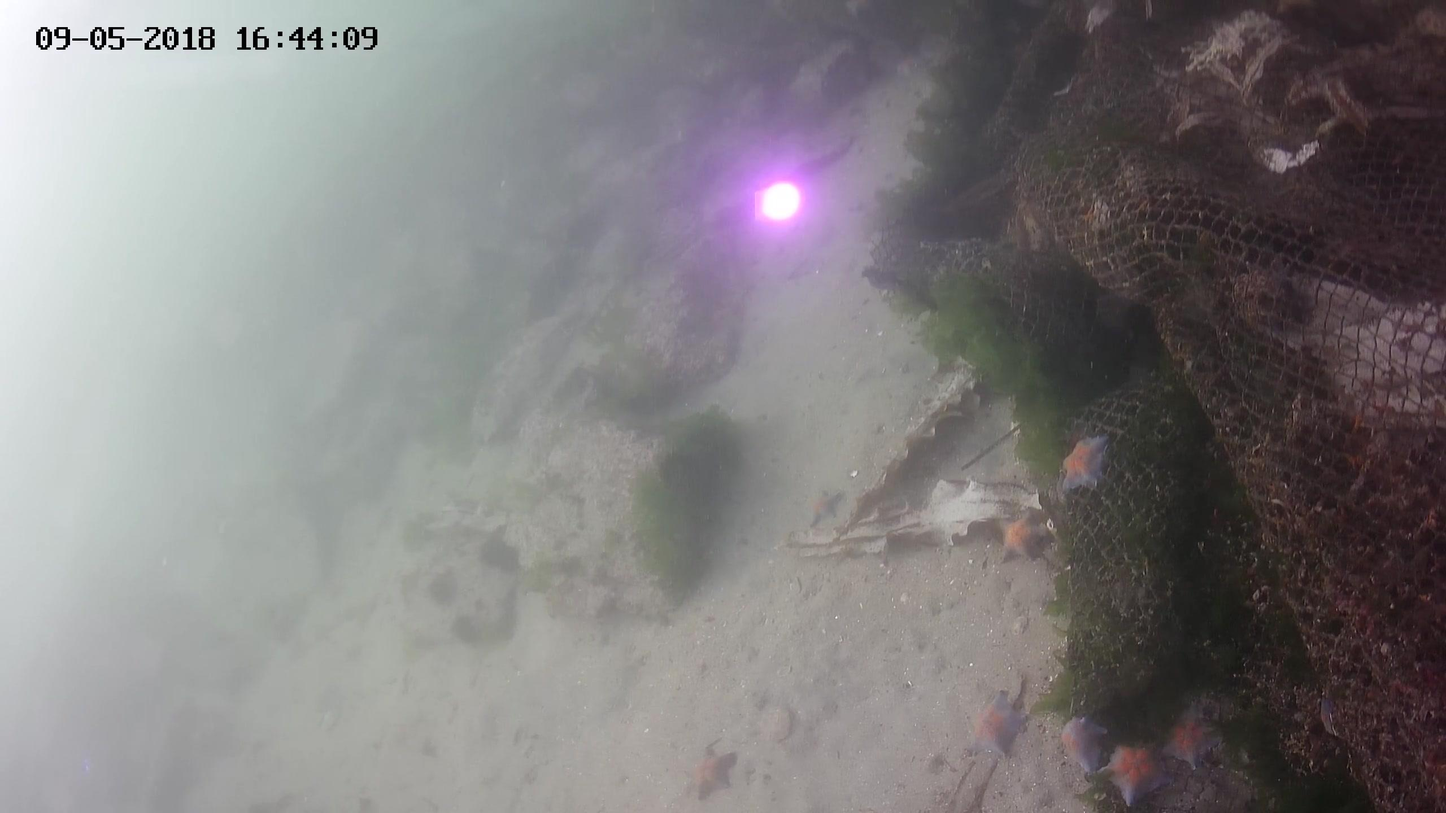holothurian: (961, 689, 1030, 758), (1105, 742, 1168, 807), (1165, 707, 1221, 770), (1057, 435, 1114, 491), (686, 740, 738, 798), (994, 510, 1051, 559), (1056, 717, 1104, 771), (805, 485, 846, 528), (1317, 696, 1337, 737)
